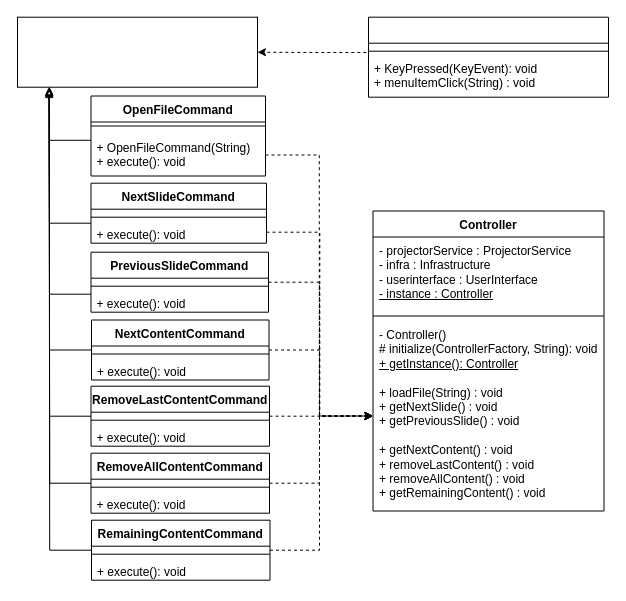
This 626x601 diagram has some shape labels left out. Each missing label, with the box of its shape:
<<Interface>> Command + execute(): void: (16, 16, 258, 87)
SwingEventHandler: (368, 16, 608, 97)
